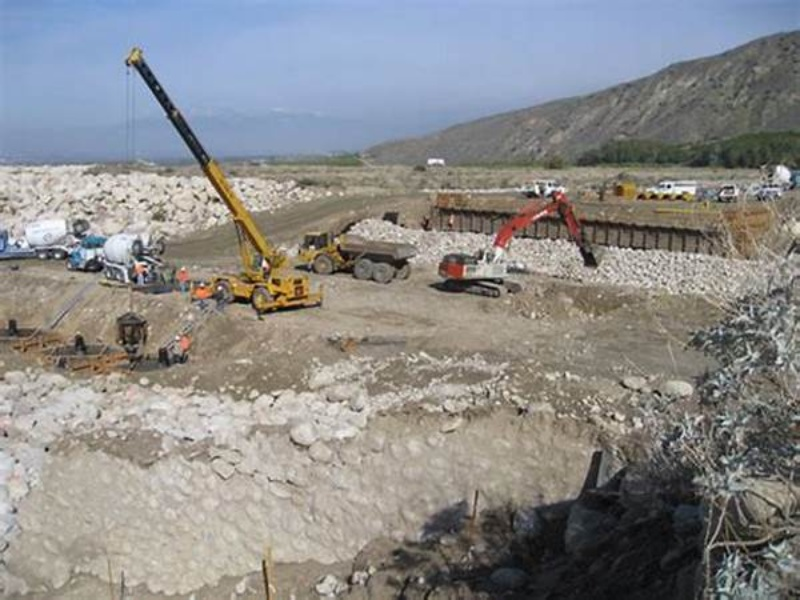crane: (120, 43, 328, 318)
excavator: (432, 192, 608, 302)
vehicle: (296, 228, 419, 288), (1, 215, 90, 262), (64, 230, 164, 271), (518, 178, 570, 200), (642, 178, 696, 197)
